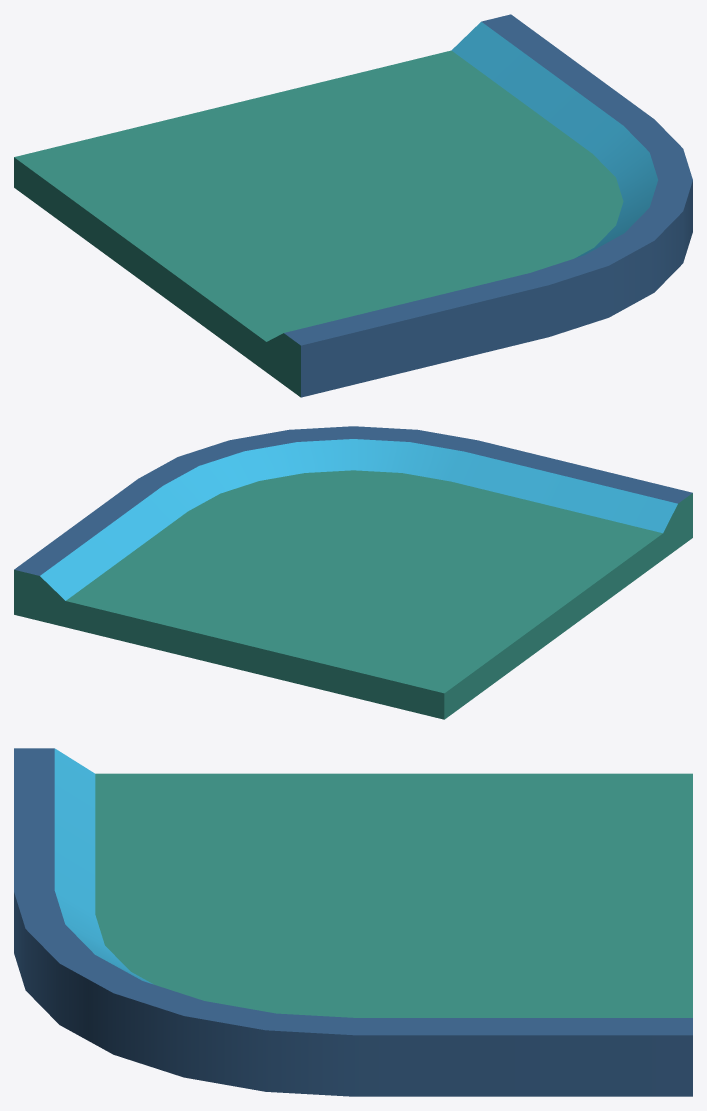
The model's file is Water_Corner.fbx.
3 views of the same model, one above another, from view 1: azimuth 30°, elevation 25°; view 2: azimuth 150°, elevation 25°; view 3: azimuth 270°, elevation 25° (orthographic). The views are drawn at different scales.
Visible parts, largest first — view 1: Water_Corner; view 2: Water_Corner; view 3: Water_Corner.
Part boxes in pixels (x1=…): Water_Corner: x1=14, y1=14, x2=692, y2=397; Water_Corner: x1=14, y1=426, x2=692, y2=719; Water_Corner: x1=14, y1=748, x2=692, y2=1096.
Bounding box in the file's own units: 1 × 1 × 0.1.
